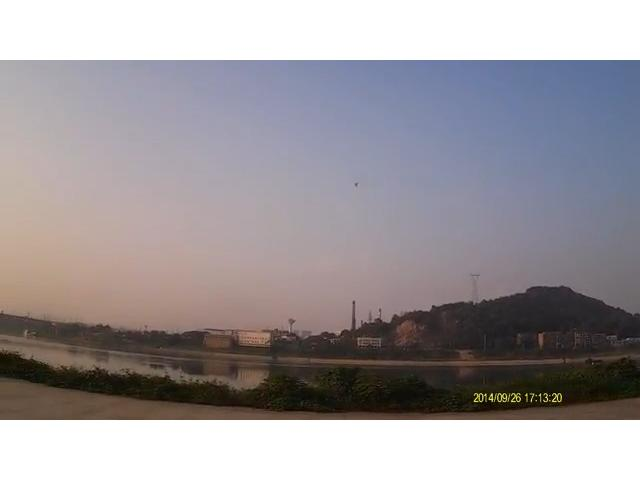Anti-Drone: (346, 176, 366, 194)
